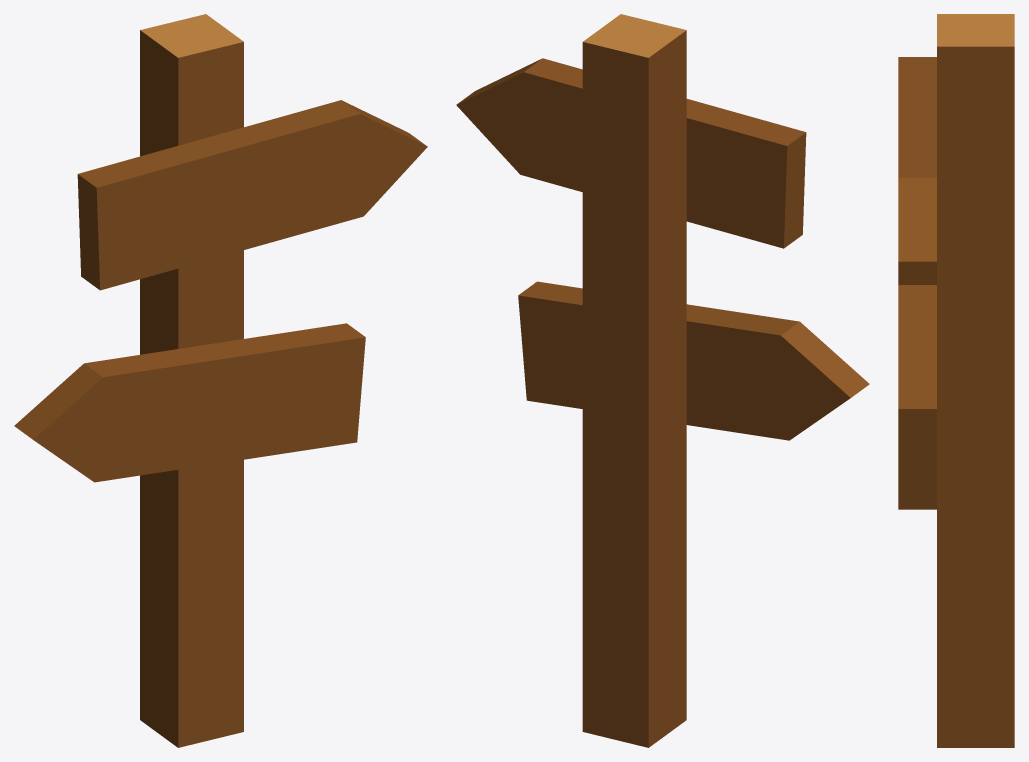
File: Signpost_01.fbx
3 renders of one model, left to right at view 1: azimuth 30°, elevation 25°; view 2: azimuth 150°, elevation 25°; view 3: azimuth 270°, elevation 25°, orthographic.
Parts seen in each view (by area): view 1: Signpost_01; view 2: Signpost_01; view 3: Signpost_01.
Boxes of the visible parts, x1,y1,x2,y2 form: Signpost_01: (14, 14, 427, 747); Signpost_01: (456, 14, 869, 747); Signpost_01: (898, 14, 1014, 747).
Bounding box in the file's own units: 59.87 × 100 × 15.
Materials: 1 (1 with a texture image).
